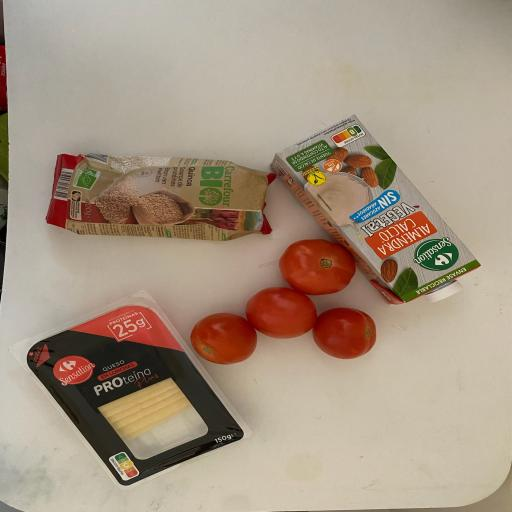cheese: (23, 300, 245, 486)
milk_almendra: (272, 109, 484, 309)
quinoa: (45, 147, 275, 244)
tomato: (277, 234, 359, 299), (242, 282, 319, 340), (186, 308, 260, 368), (311, 302, 383, 362)
